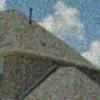chimneys: (29, 8, 33, 24)
